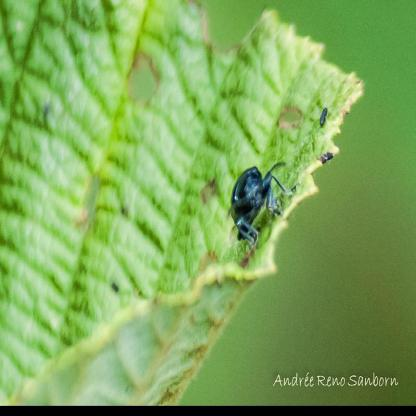beetle: (225, 144, 293, 256), (319, 105, 331, 130)
